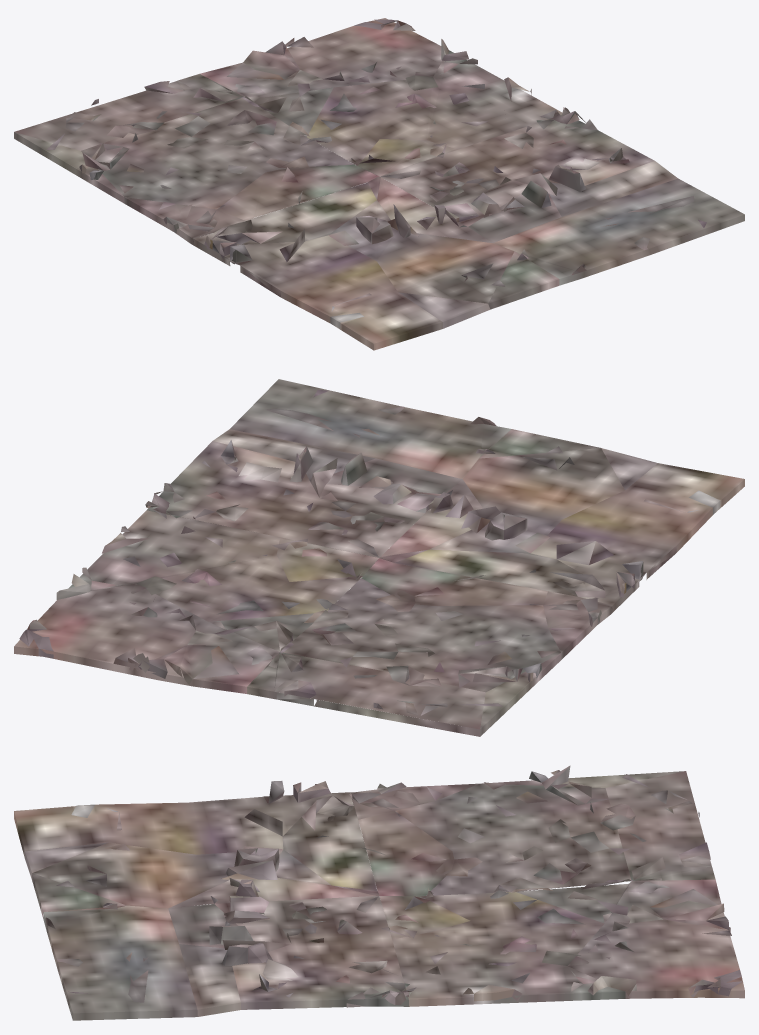
The picture shows the model from 3 angles, top to bottom: view 1: azimuth 30°, elevation 25°; view 2: azimuth 150°, elevation 25°; view 3: azimuth 270°, elevation 25°; orthographic projection. The views are drawn at different scales.
Visible parts, largest first — view 1: Mesh_0; view 2: Mesh_0; view 3: Mesh_0.
Boxes of the visible parts, x1,y1,x2,y2 form: Mesh_0: (14,18,744,350); Mesh_0: (14,379,744,736); Mesh_0: (14,765,744,1020).
Size of the model in its own units: 1065 by 79.34 by 1318.
1 material, 1 textured.
